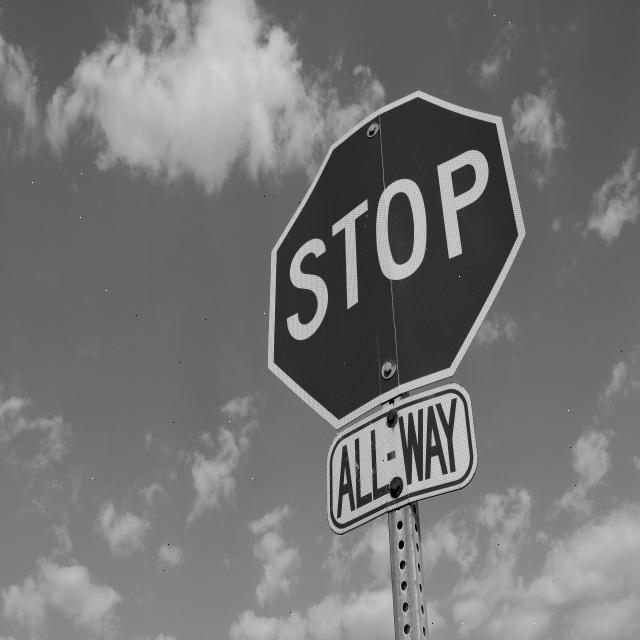Stop-sign: (260, 81, 536, 432)
